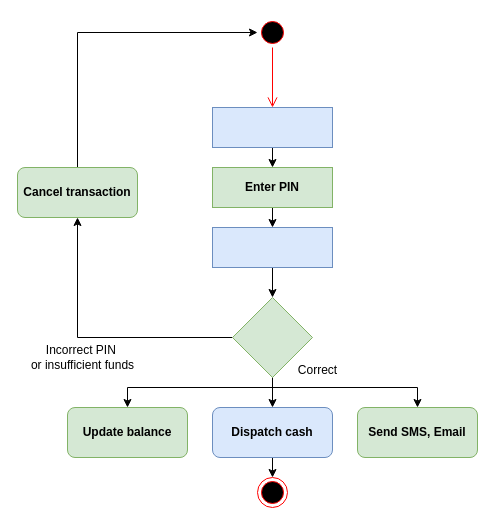
The diagram is 495 pixels wide and 525 high, and some of its shapes have lost their labels. Each missing label, with the box of its shape:
Enter amount: (212, 226, 332, 268)
Insert card: (212, 106, 332, 148)
